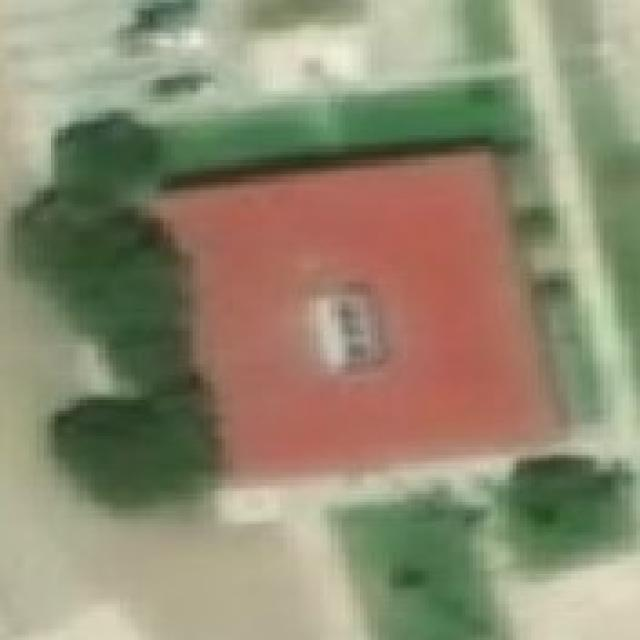Batiment: (160, 154, 544, 473)
